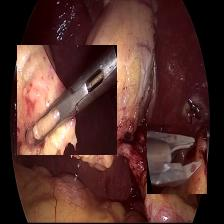Clipper: (148, 124, 207, 194)
Grasper: (17, 46, 117, 155)
